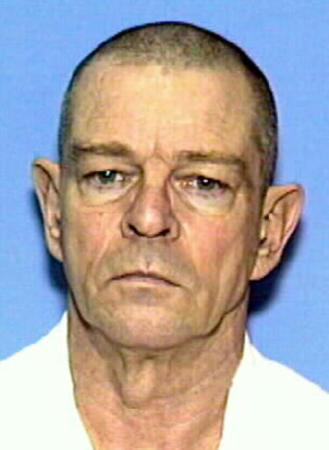Face: (45, 81, 262, 351)
